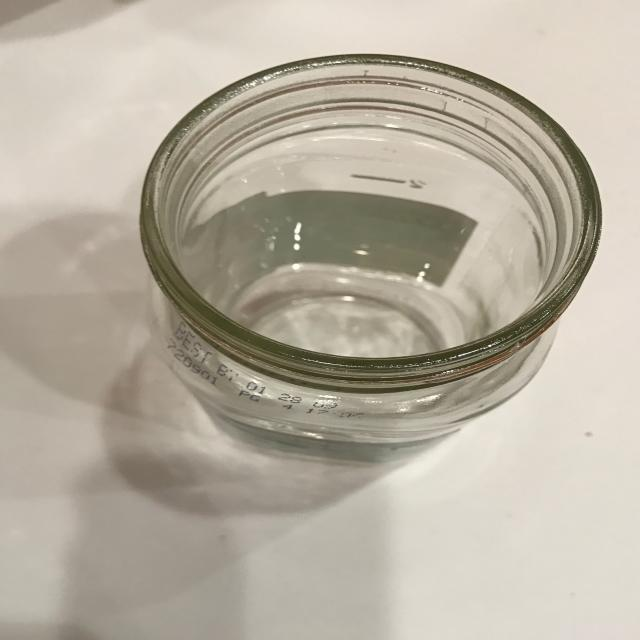glass: (136, 53, 604, 466)
